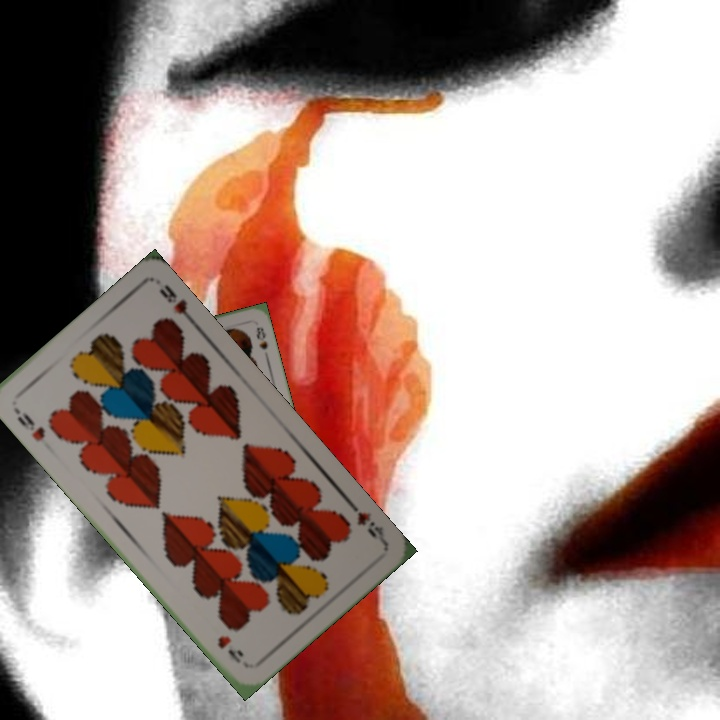H9: (344, 496, 388, 546), (13, 408, 48, 444)
